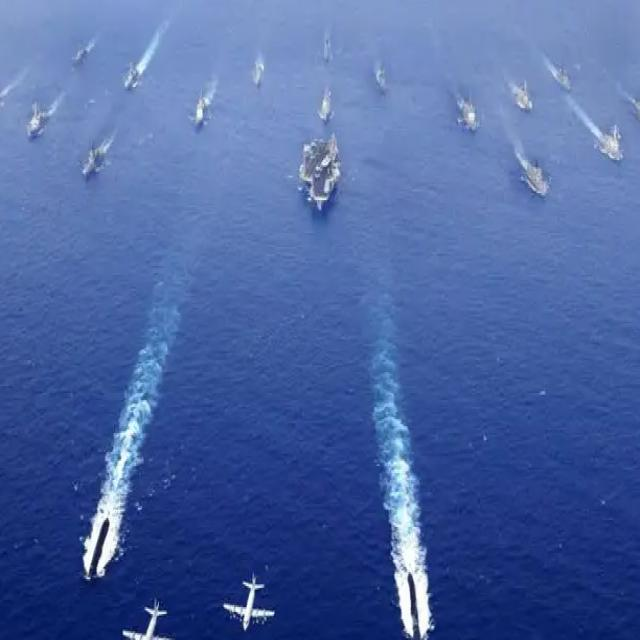navalvessels: (295, 126, 343, 211), (511, 138, 552, 207), (12, 104, 53, 147), (81, 132, 112, 184), (68, 34, 107, 72), (598, 114, 626, 164), (510, 75, 536, 118), (118, 46, 140, 92), (550, 49, 572, 95), (458, 88, 483, 128), (195, 86, 214, 133), (315, 90, 341, 118)
